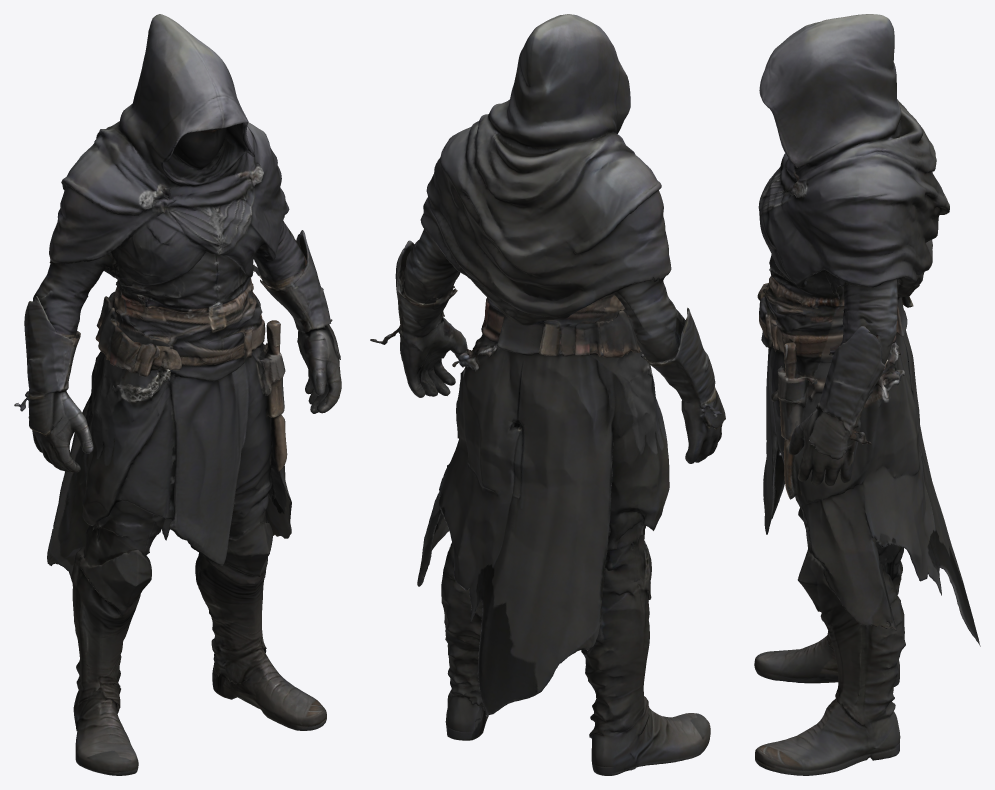
The model's file is assasin.glb.
3 renders of one model, left to right at view 1: azimuth 30°, elevation 25°; view 2: azimuth 150°, elevation 25°; view 3: azimuth 270°, elevation 25°, orthographic. The views are drawn at different scales.
Bounding box in the file's own units: 0.9755 × 1.99 × 0.5809.
1 material, 1 textured.
